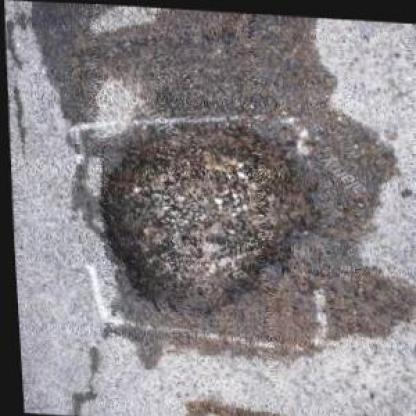pothole: (84, 110, 320, 323)
